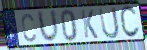0: (60, 9, 79, 43)
C: (119, 5, 142, 40), (20, 12, 37, 43)
K: (80, 9, 99, 40)
U: (36, 8, 61, 44), (98, 6, 121, 40)
